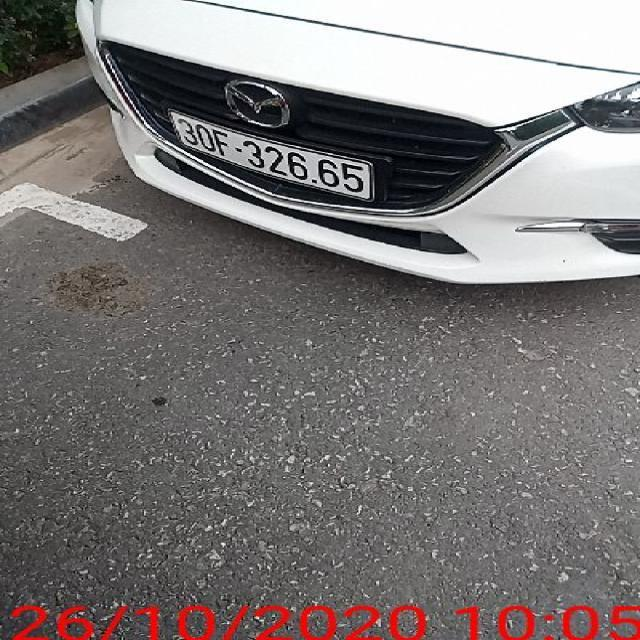bien_so_oto: (166, 108, 376, 202)
